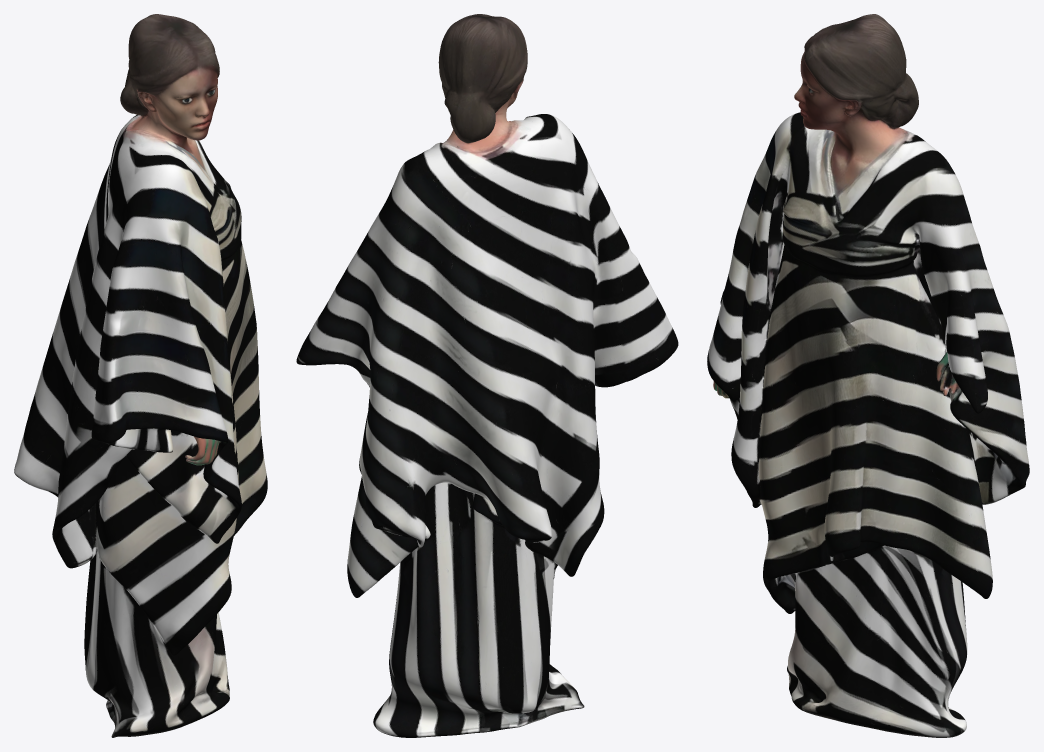
File: prisoner_in_stripes.glb
3 views of the same model, side by side, from view 1: azimuth 30°, elevation 25°; view 2: azimuth 150°, elevation 25°; view 3: azimuth 270°, elevation 25° (orthographic).
Parts seen in each view (by area): view 1: Object_6, Object_7, Object_5; view 2: Object_6, Object_5, Object_7; view 3: Object_6, Object_5, Object_7.
Boxes of the visible parts, x1,y1,x2,y2 form: Object_6: [17, 17, 267, 737]; Object_7: [88, 43, 242, 724]; Object_5: [14, 14, 251, 706]; Object_6: [296, 14, 604, 736]; Object_5: [314, 18, 678, 737]; Object_7: [523, 35, 677, 690]; Object_6: [760, 17, 1029, 736]; Object_5: [707, 14, 981, 737]; Object_7: [733, 45, 827, 711].
Bounding box in the file's own units: 0.7387 × 1.9 × 0.803.
Materials: 1 (1 with a texture image).
